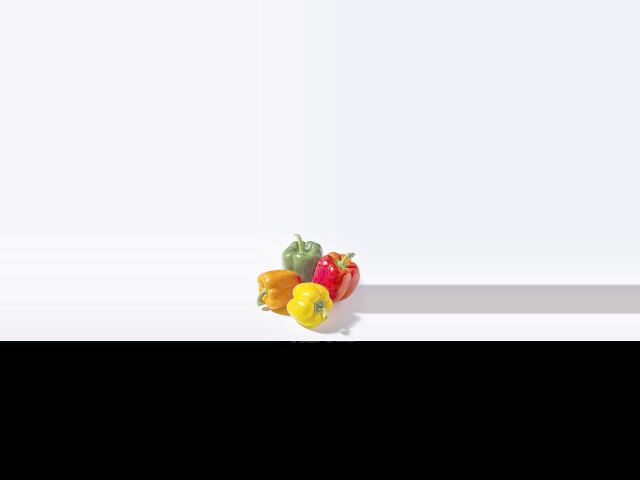bell_pepper: (312, 247, 361, 302)
